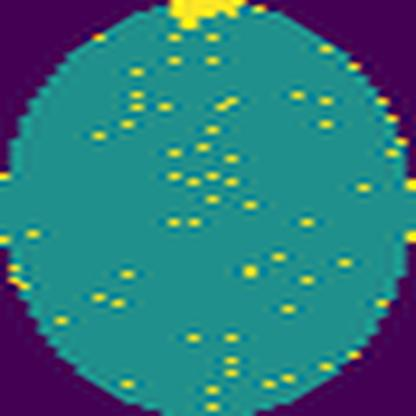Edge-Loc: (167, 0, 251, 25)
